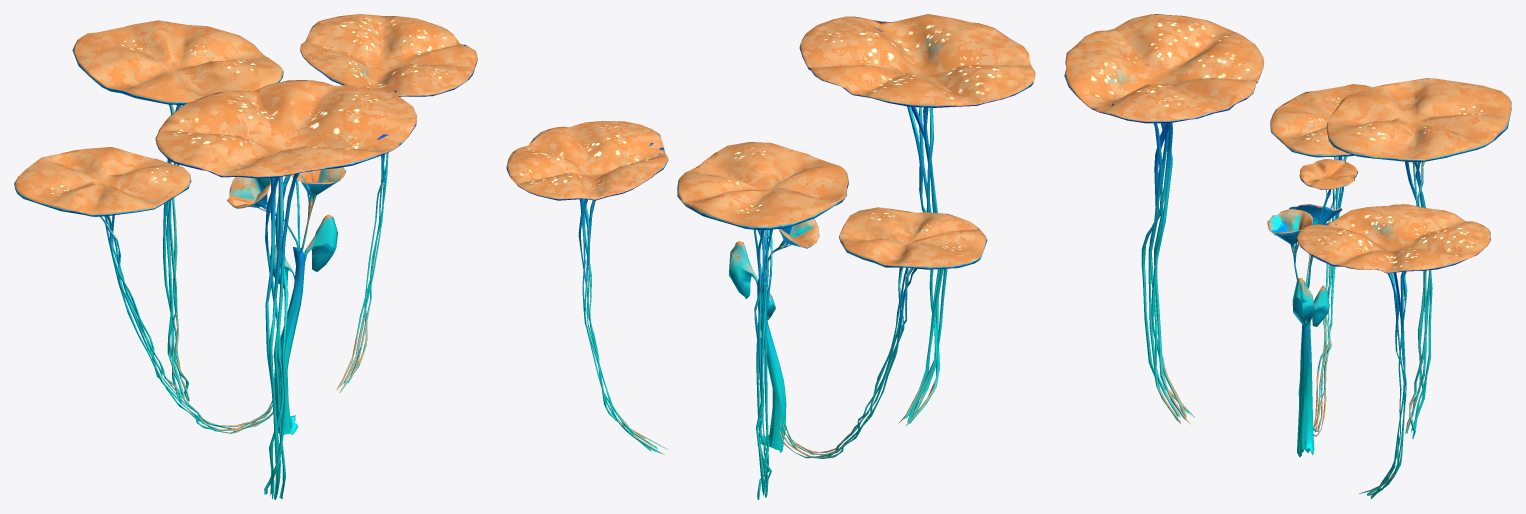
File: shu_xiang_gu.glb
3 views of the same model, side by side, from view 1: azimuth 30°, elevation 25°; view 2: azimuth 150°, elevation 25°; view 3: azimuth 270°, elevation 25° (orthographic). The views are drawn at different scales.
Parts seen in each view (by area): view 1: SM_LargeLilly_Complete_A_LOD3.005; view 2: SM_LargeLilly_Complete_A_LOD3.005; view 3: SM_LargeLilly_Complete_A_LOD3.005.
Boxes of the visible parts, box(x1,y1,x2,y2) form: SM_LargeLilly_Complete_A_LOD3.005: box(14, 14, 477, 499); SM_LargeLilly_Complete_A_LOD3.005: box(506, 14, 1035, 499); SM_LargeLilly_Complete_A_LOD3.005: box(1064, 14, 1511, 499).
Bounding box in the file's own units: 3.88 × 3.12 × 3.5.
2 materials, 2 textured.
